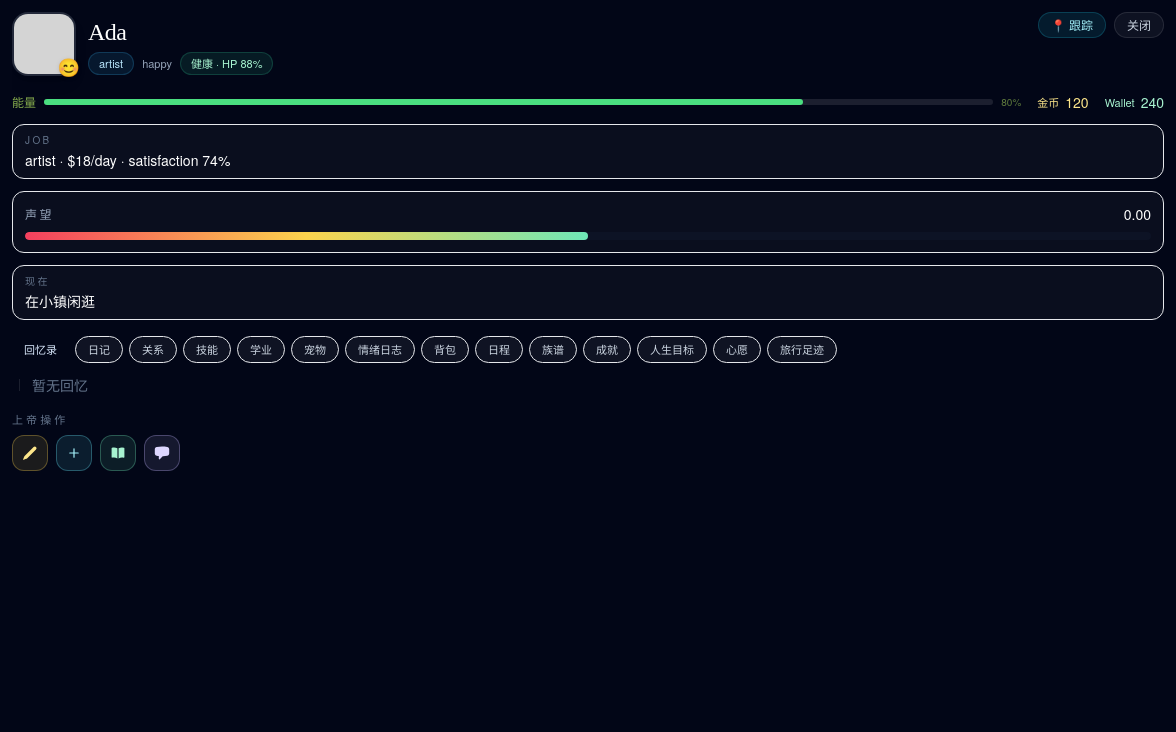
resident avatar placements › renders a skills tab with skill levels in the resident sidebar
Click the tab "技能": click(207, 349) [183,336,231,362]
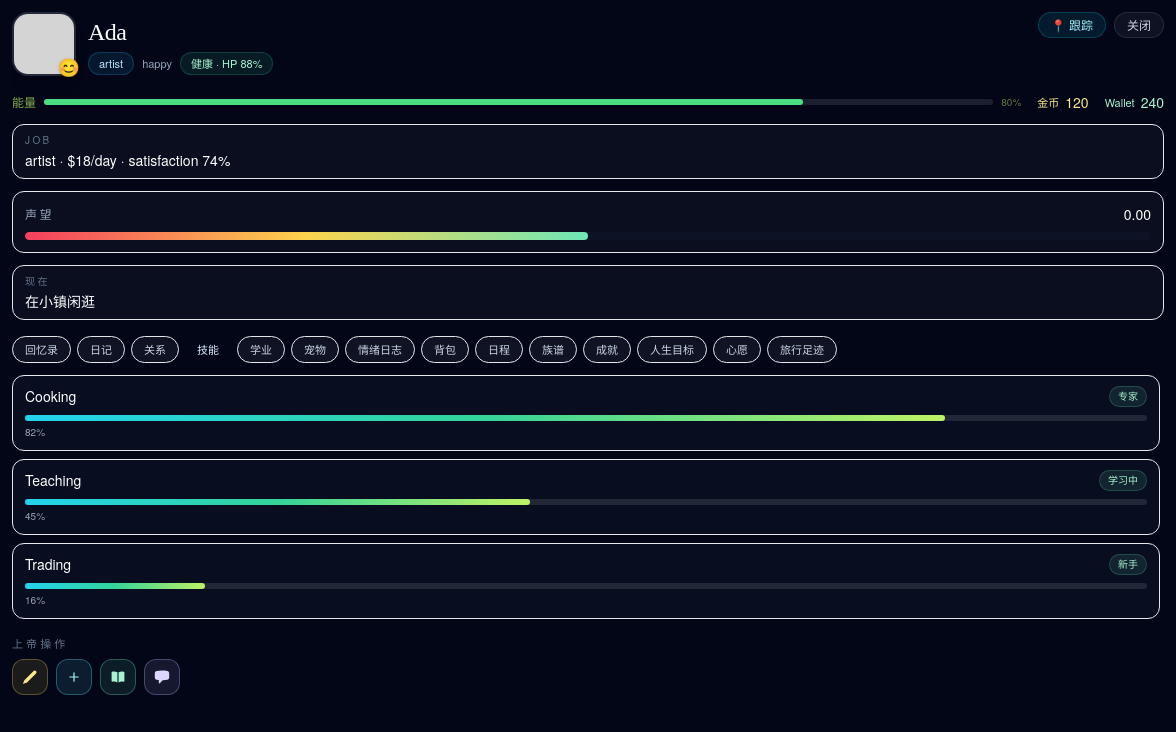
expect the text "cooking" is shown: met, box [25,386,76,406]
expect the text "专家" is shown: met, box [1109,386,1147,406]
expect the text "teaching" is shown: met, box [25,470,81,490]
